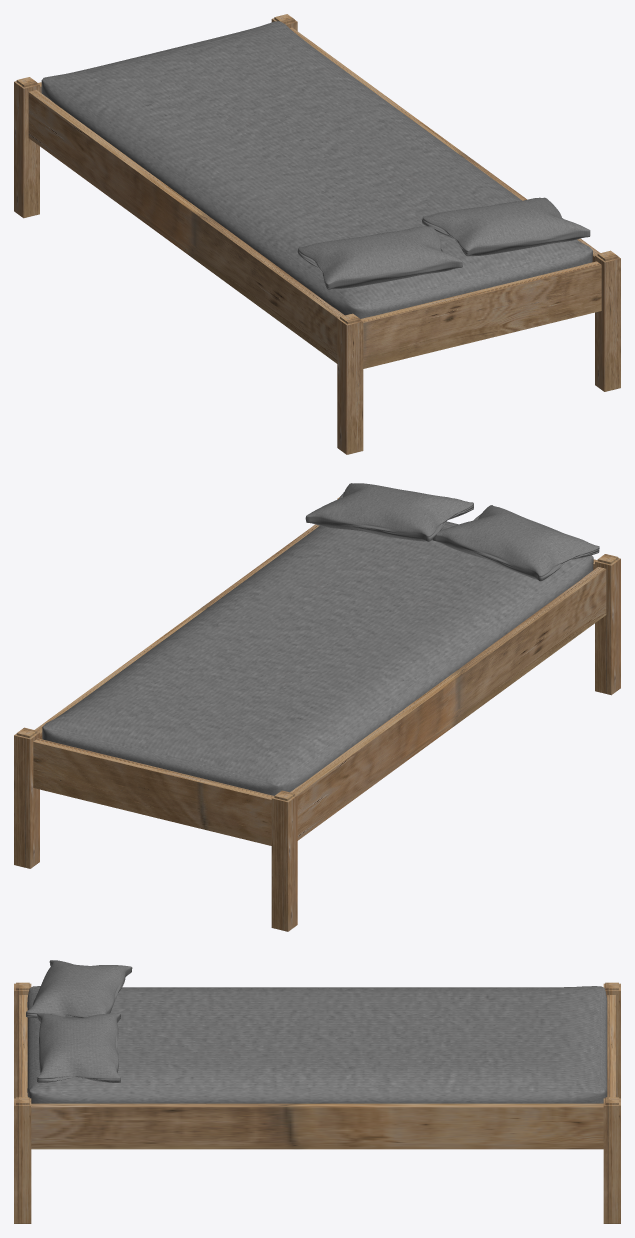
The model's file is uploads_files_4285911_kasurkayu_single.glb.
The picture shows the model from 3 angles, top to bottom: view 1: azimuth 30°, elevation 25°; view 2: azimuth 150°, elevation 25°; view 3: azimuth 270°, elevation 25°; orthographic projection. The views are drawn at different scales.
Visible parts, largest first — view 1: kasur, kasur_rangka, bantal.001, bantal; view 2: kasur, kasur_rangka, bantal.001, bantal; view 3: kasur, kasur_rangka, bantal, bantal.001.
Boxes of the visible parts, left/top/right/bottom form: kasur: left=41, top=21, right=592, bottom=318; kasur_rangka: left=14, top=14, right=620, bottom=454; bantal.001: left=297, top=226, right=462, bottom=289; bantal: left=422, top=197, right=590, bottom=256; kasur: left=42, top=521, right=593, bottom=795; kasur_rangka: left=14, top=496, right=620, bottom=931; bantal.001: left=432, top=505, right=599, bottom=581; bantal: left=305, top=483, right=473, bottom=541; kasur: left=27, top=986, right=607, bottom=1103; kasur_rangka: left=14, top=982, right=620, bottom=1223; bantal: left=37, top=1013, right=120, bottom=1082; bantal.001: left=26, top=960, right=132, bottom=1018.
Bounding box in the file's own units: 0.996 × 0.5951 × 2.09.
Materials: 2 (2 with a texture image).
